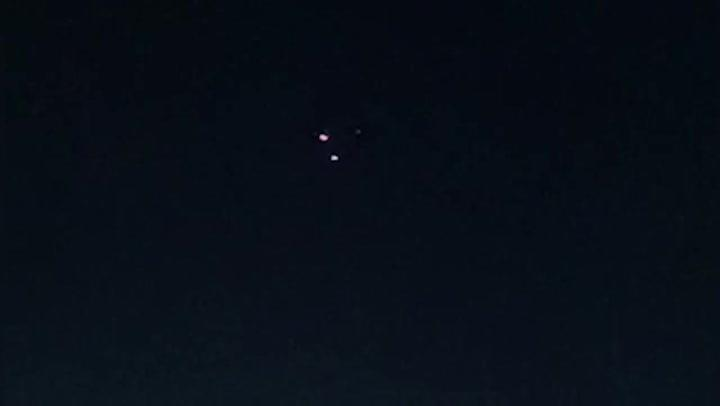Plane: (286, 110, 385, 173)
